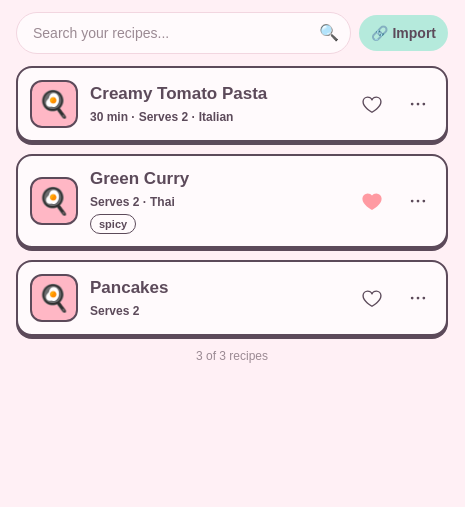
Recipes tab list (issue #801) › open › opens the recipe in place with its pantry food tags, and Back returns to the list
Click the button with aria-label "Open recipe: Creamy Tomato Pasta".
click(184, 104)  # box x1=18 y1=68 x2=350 y2=140
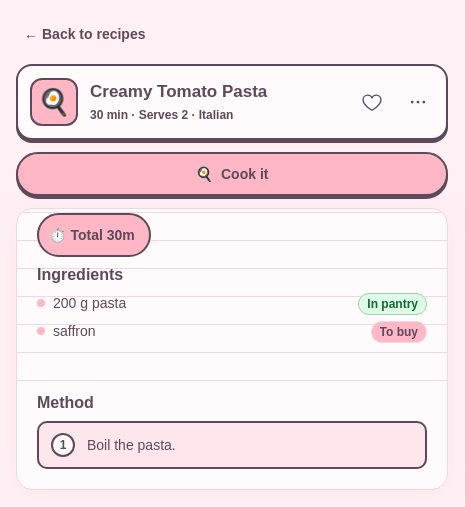
Expected: the number of elements with test id "recipe-card-saved" is 1, x1=16 y1=64 x2=448 y2=140
Expected: the heading "Ingredients" is shown, x1=37 y1=266 x2=123 y2=283
Expected: the number of elements with test id "ingredient-tag" is 2, x1=358 y1=289 x2=427 y2=317; x1=371 y1=317 x2=427 y2=345
Click the button "← Back to recipes".
click(85, 34)  # box x1=16 y1=12 x2=154 y2=56
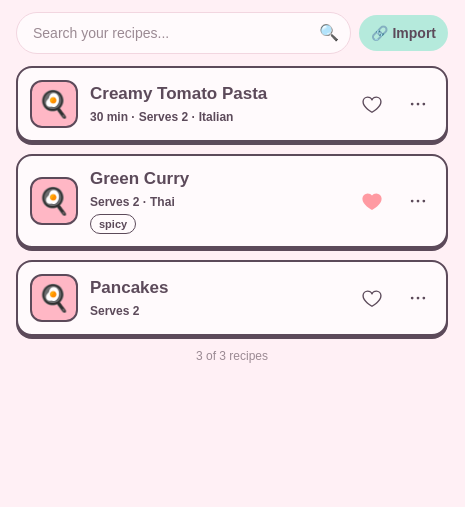
Expected: the number of elements with test id "recipe-card-saved" is 3, x1=16 y1=66 x2=448 y2=142; x1=16 y1=154 x2=448 y2=248; x1=16 y1=260 x2=448 y2=336
